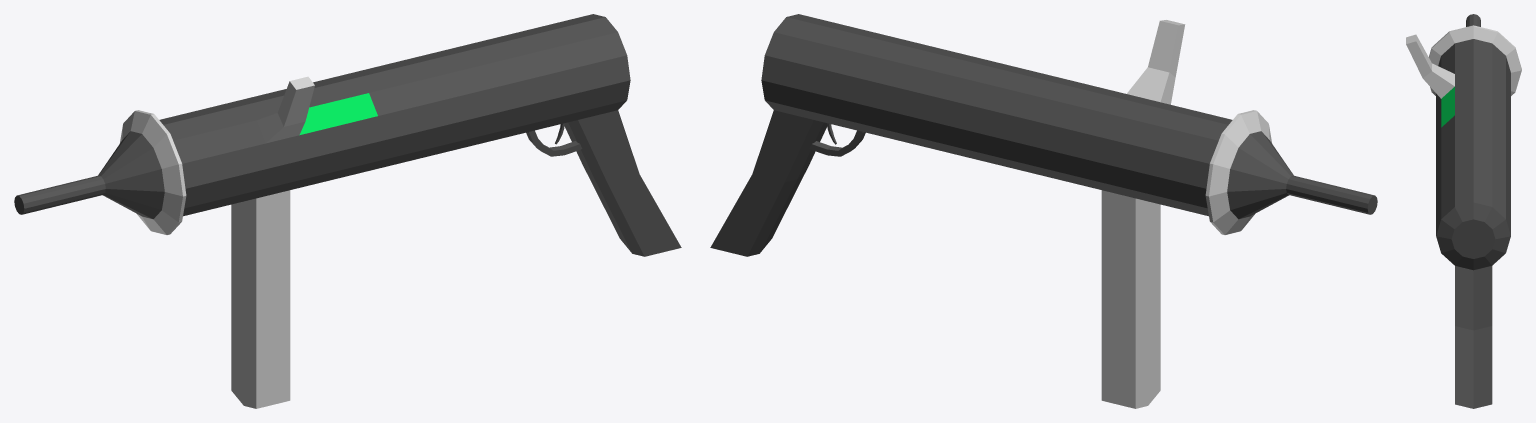
The model's file is MachinePistol3.fbx.
3 renders of one model, left to right at view 1: azimuth 30°, elevation 25°; view 2: azimuth 150°, elevation 25°; view 3: azimuth 270°, elevation 25°, orthographic. The views are drawn at different scales.
Visible parts, largest first — view 1: Cylinder.004; view 2: Cylinder.004; view 3: Cylinder.004.
Part boxes in pixels (bbox=[...]): Cylinder.004: bbox=[14, 14, 681, 408]; Cylinder.004: bbox=[710, 14, 1377, 408]; Cylinder.004: bbox=[1406, 14, 1521, 408].
Size of the model in its own units: 1511 by 779 by 310.
